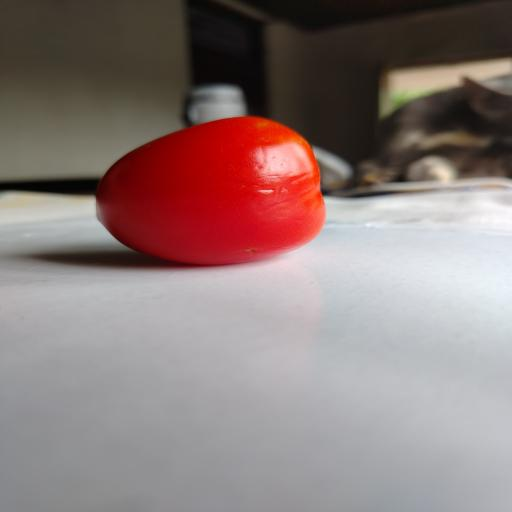ripe: (97, 117, 325, 264)
